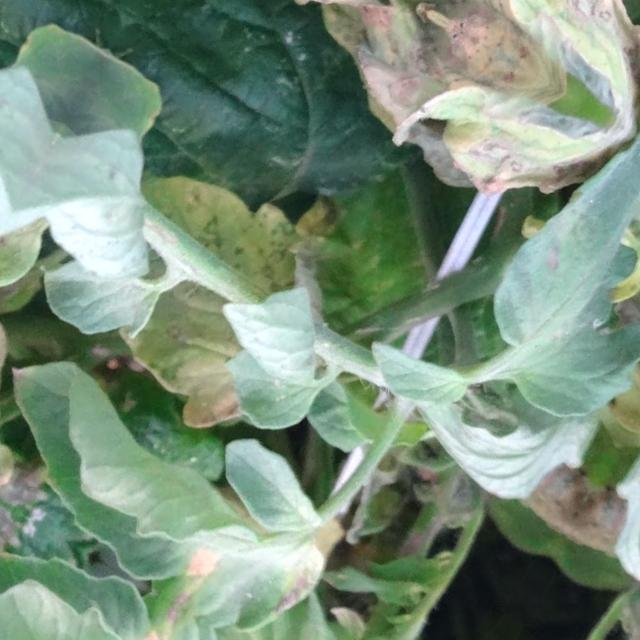Tomato leaf late blight: (0, 296, 389, 640), (448, 114, 640, 466), (202, 0, 476, 50)
